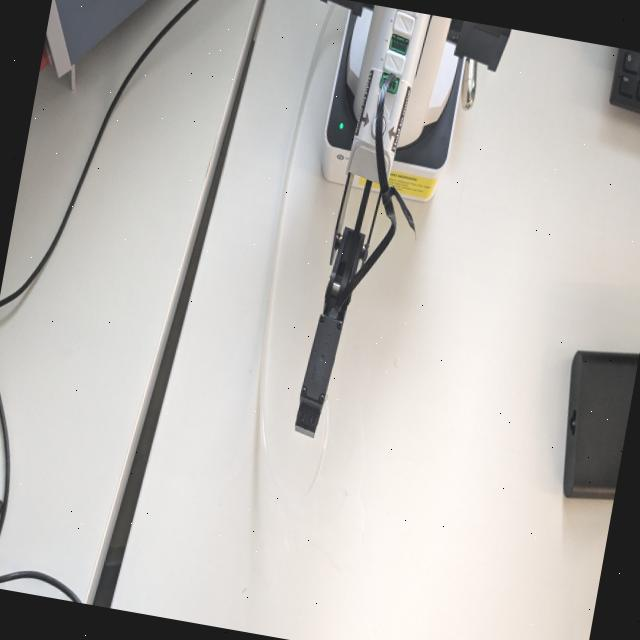Robot-end-effector-HF8z: (289, 302, 347, 450)
